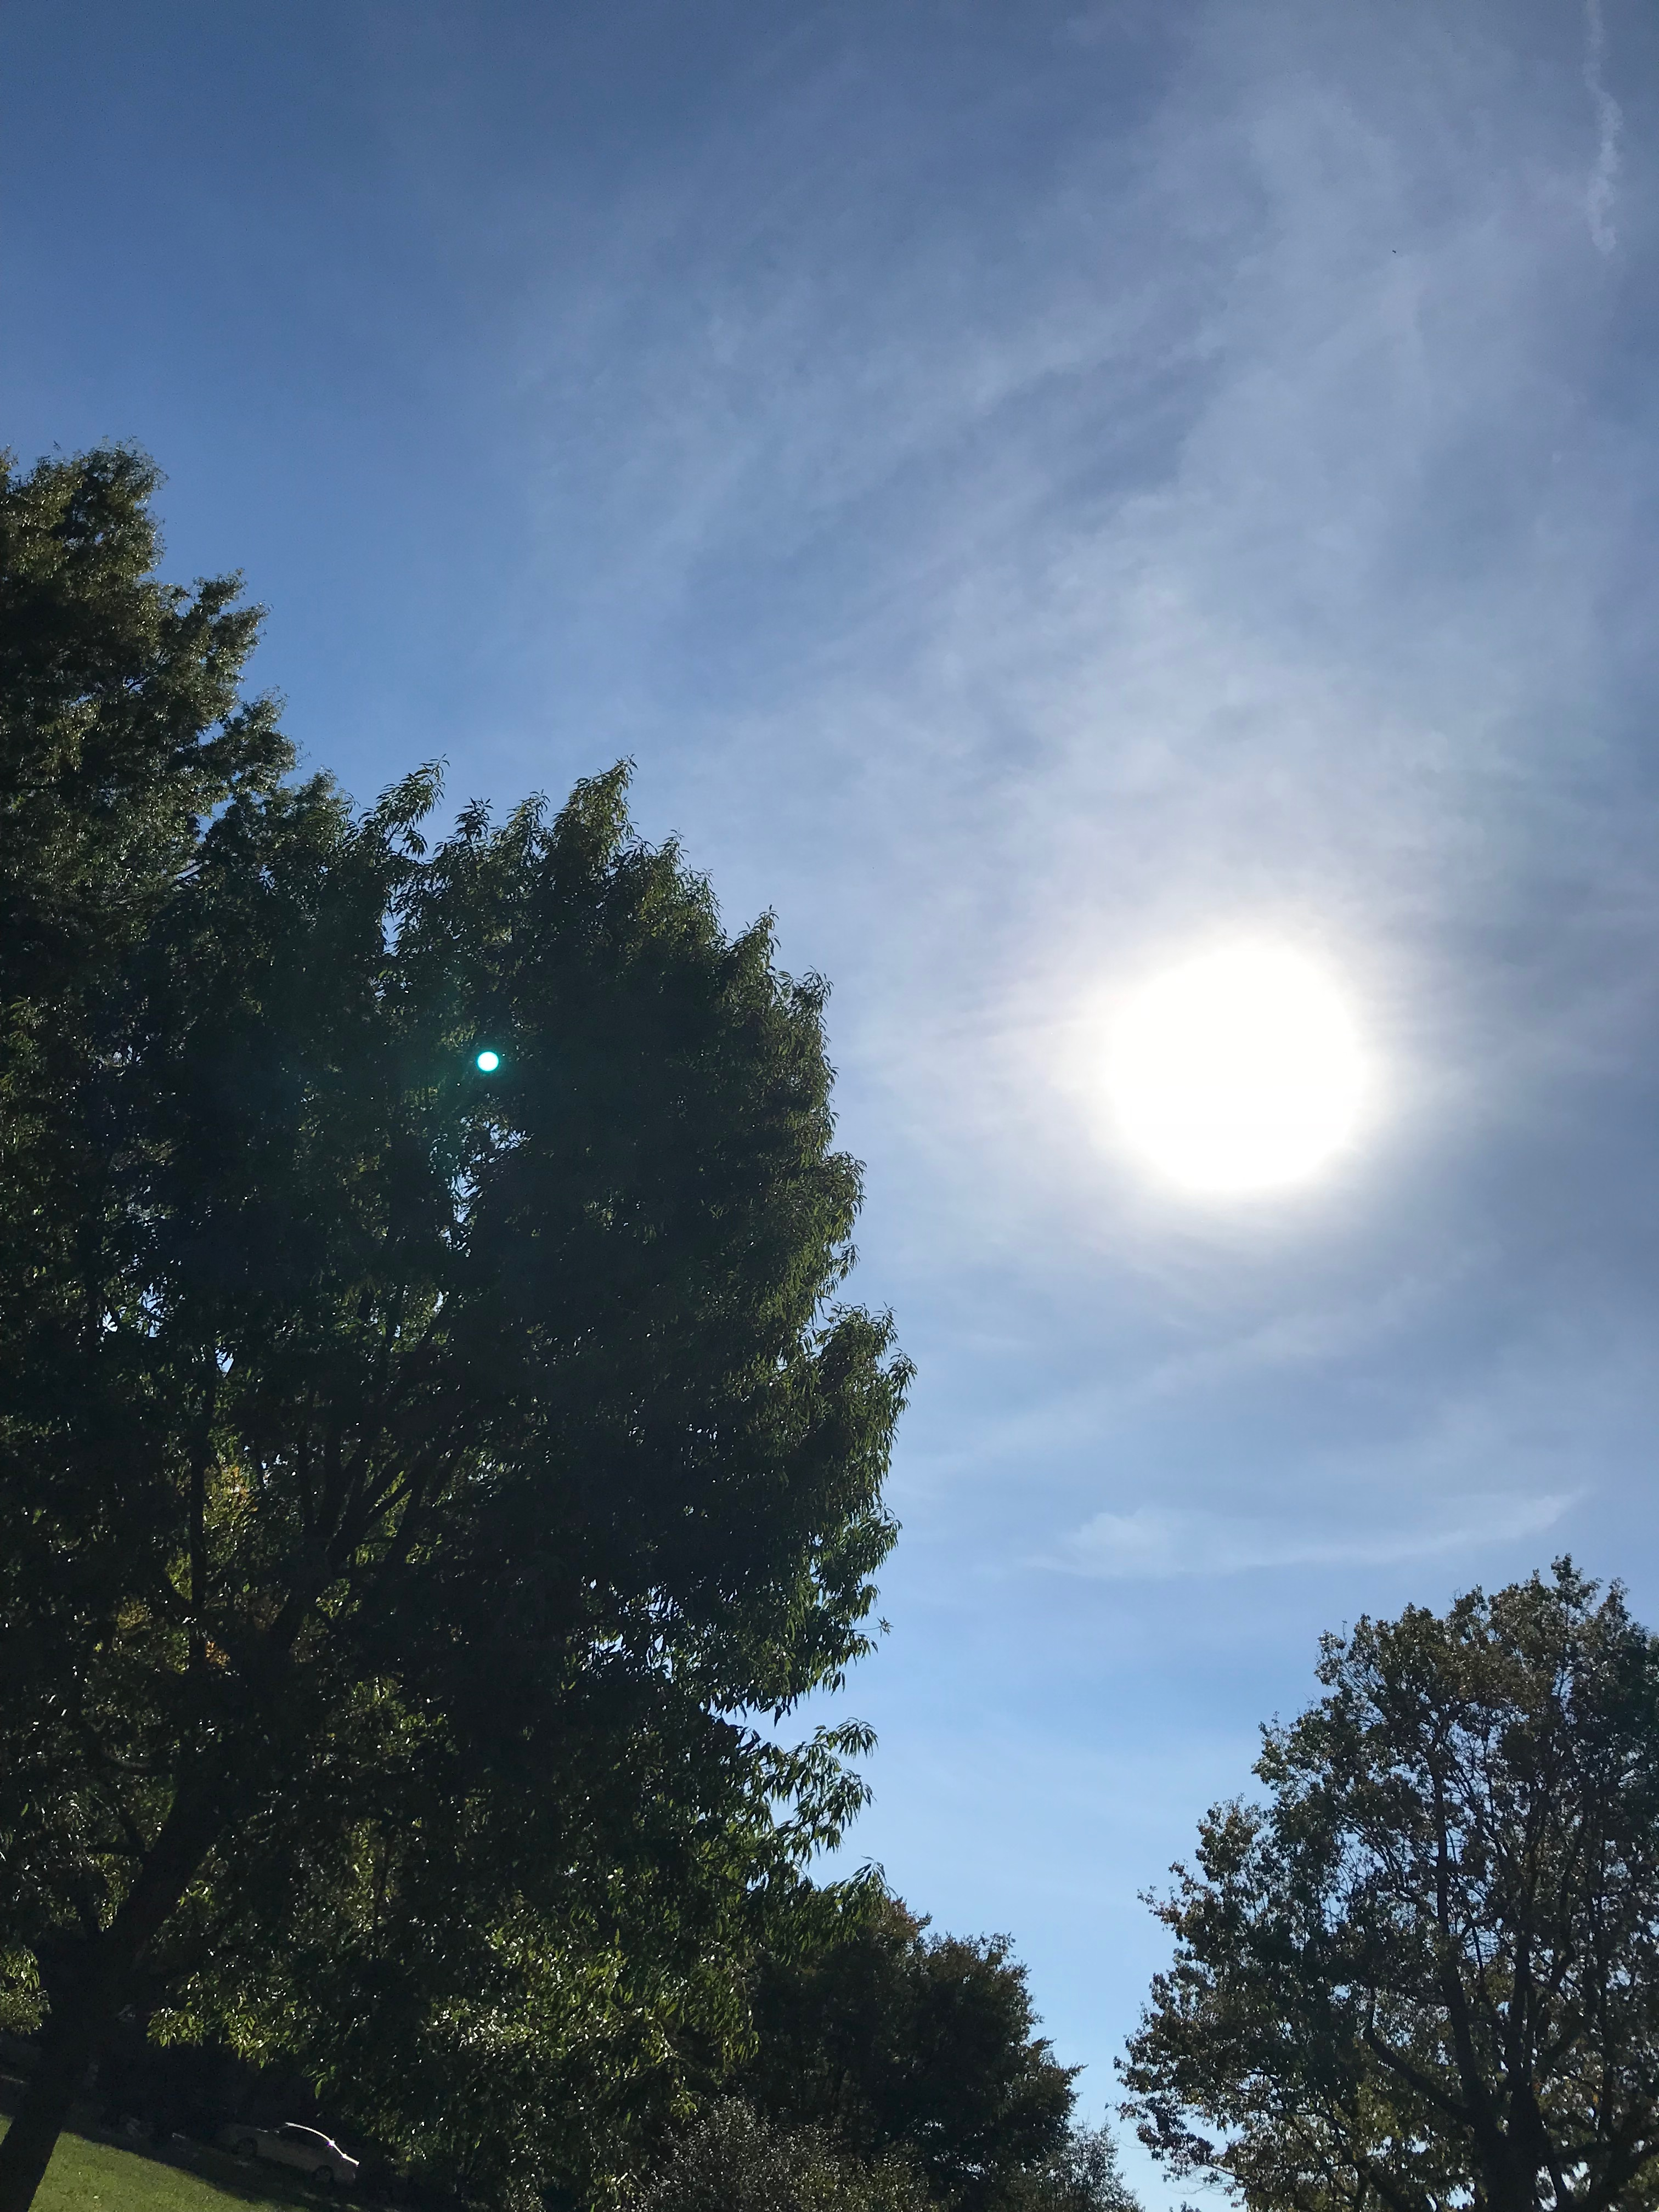flare: (474, 1050, 502, 1075)
